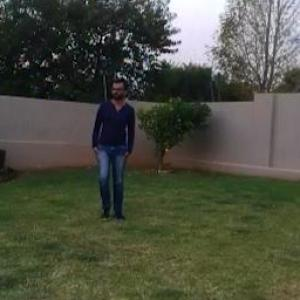follow: (87, 70, 139, 223)
